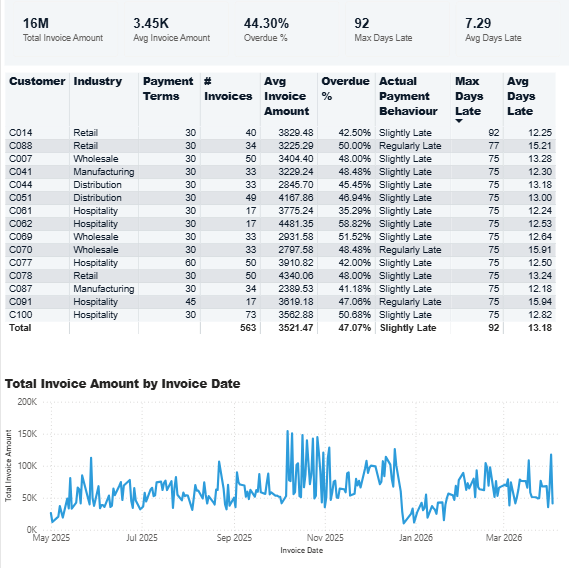

Layout of this report page (visuals, bound fields, positions):
{"tool":"powerbi","page":{"name":"Page 3","canvas":[794,1123],"ordinal":2},"visuals":[{"type":"cardVisual","fields":{"Data":["Sum(Invoices.Invoice_Value)","Avg(Invoices.Invoice_Value)","Invoices.Overdue %","Max(Invoices.Days_Late)","Avg(Invoices.Days_Late)1"]},"box":[0,261,794,111],"z":0},{"type":"tableEx","fields":{"Values":["Invoices.Customer_ID","Customers.Industry","Invoices.Payment_Terms","CountNonNull(Invoices.Invoice_ID)","Avg(Invoices.Invoice_Value)","Invoices.Overdue %","Customers.Actual Payment Behaviour","Max(Invoices.Days_Late)","Avg(Invoices.Days_Late)1"]},"box":[0,372,811.8,378.9],"z":1000},{"type":"lineChart","fields":{"Y":["Sum(Invoices.Invoice_Value)"],"Category":["Invoices.Invoice_Date"]},"box":[0,795.2,793.8,253.1],"z":2000},{"type":"textbox","box":[0,9.7,782.8,59.5],"z":3000},{"type":"image","box":[661,1104,133,19],"z":3001},{"type":"textbox","box":[0,65,783,201],"z":3002},{"type":"shape","box":[0,49,794,22],"z":3003},{"type":"shape","box":[0,261,794,22],"z":3004}]}

Visuals, with their boxes on the page's 794x1123 design canvas (x1, y1, x2, y2). These are canvas units, not pixel positions in the 571x568 screenshot, which may show the page scaled, cropped or inside an application window:
cardVisual - Sum(Invoices.Invoice_Value) x Avg(Invoices.Invoice_Value): BBox(0, 261, 794, 372)
tableEx - Invoices.Customer_ID x Customers.Industry: BBox(0, 372, 812, 751)
lineChart - Sum(Invoices.Invoice_Value) x Invoices.Invoice_Date: BBox(0, 795, 794, 1048)
textbox: BBox(0, 10, 783, 69)
image: BBox(661, 1104, 794, 1123)
textbox: BBox(0, 65, 783, 266)
shape: BBox(0, 49, 794, 71)
shape: BBox(0, 261, 794, 283)
